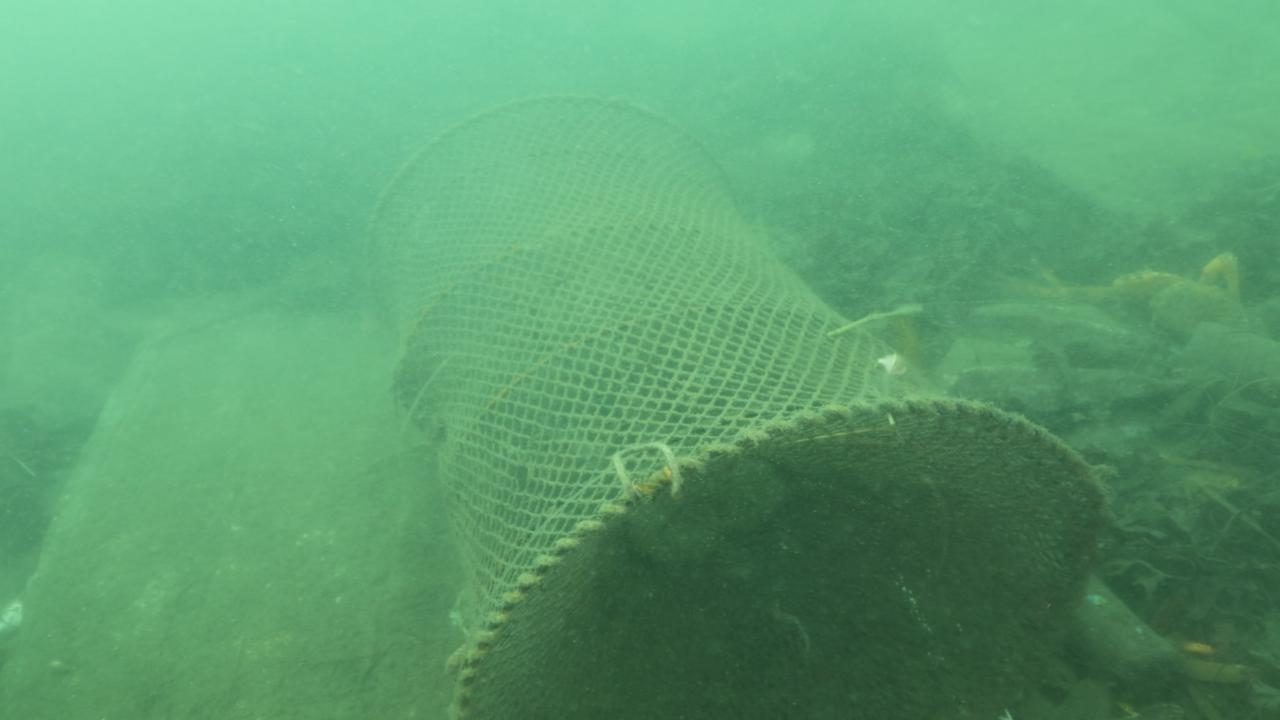spring fish trap: (361, 89, 1116, 720)
